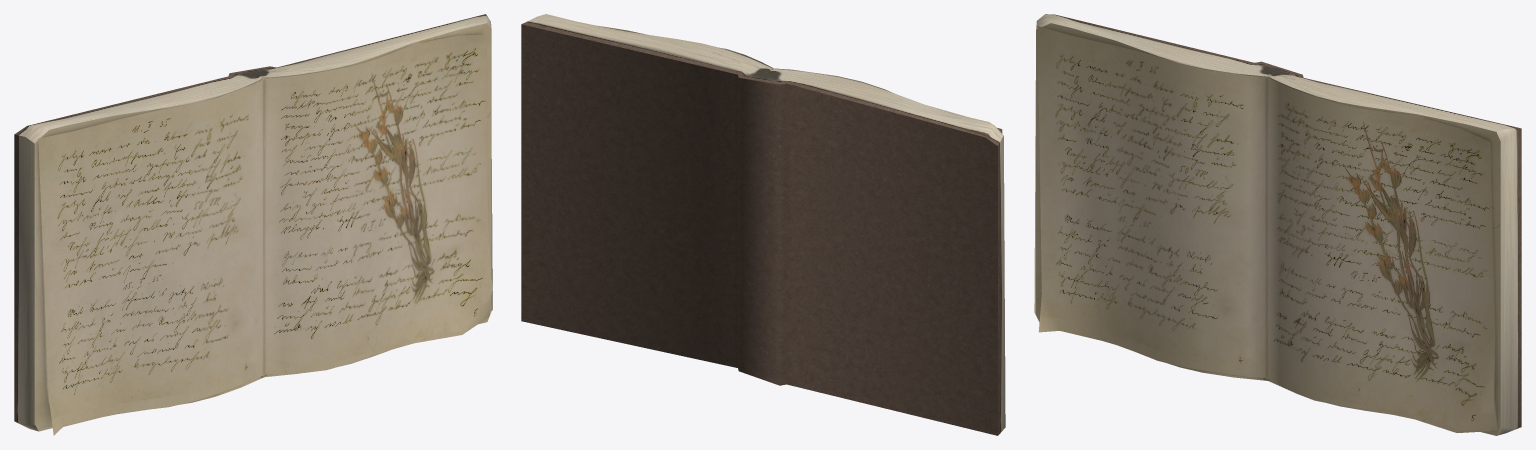
File: elusivebook.obj
The picture shows the model from 3 angles, left to right: view 1: azimuth 30°, elevation 25°; view 2: azimuth 150°, elevation 25°; view 3: azimuth 330°, elevation 25°; orthographic projection.
Parts seen in each view (by area): view 1: sm_0; view 2: sm_0; view 3: sm_0.
Boxes of the visible parts, bbox=[...] form: sm_0: bbox=[14, 14, 492, 435]; sm_0: bbox=[521, 14, 1005, 435]; sm_0: bbox=[1034, 14, 1521, 435].
Size of the model in its own units: 51.49 by 31.9 by 4.29.
1 material, 1 textured.
